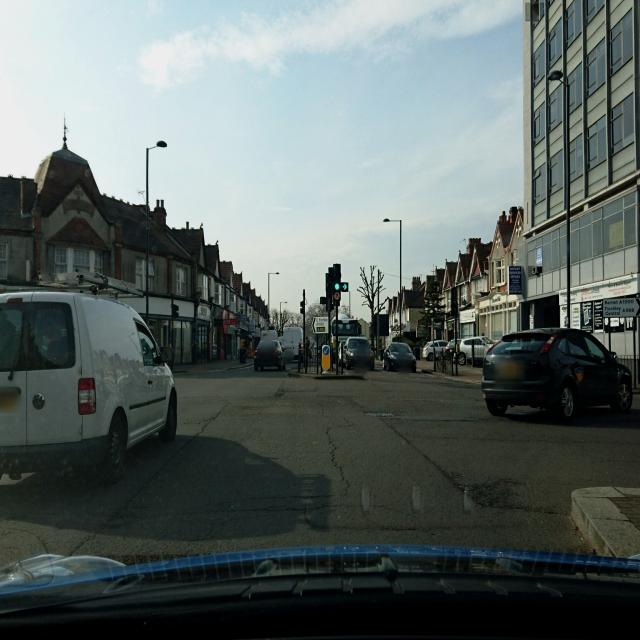car: (0, 282, 179, 488), (481, 326, 634, 421), (343, 335, 375, 371), (253, 338, 286, 372), (459, 336, 496, 366), (382, 342, 417, 373), (422, 339, 448, 362), (446, 338, 462, 360)
